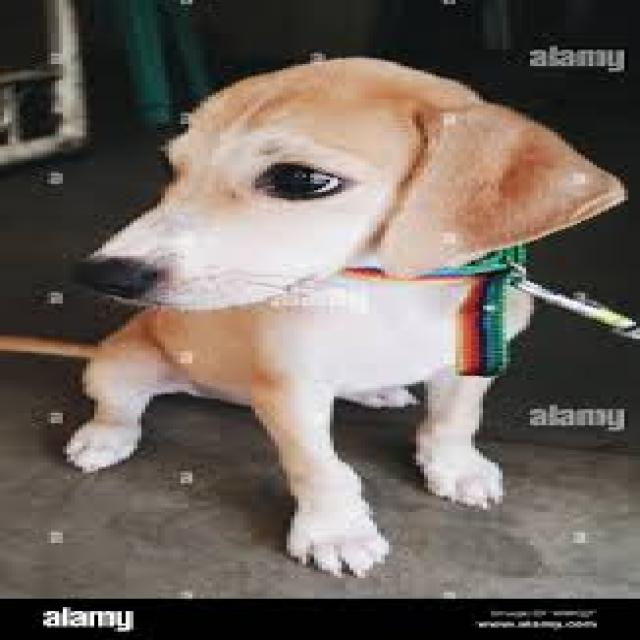Dog: (48, 50, 629, 581)
